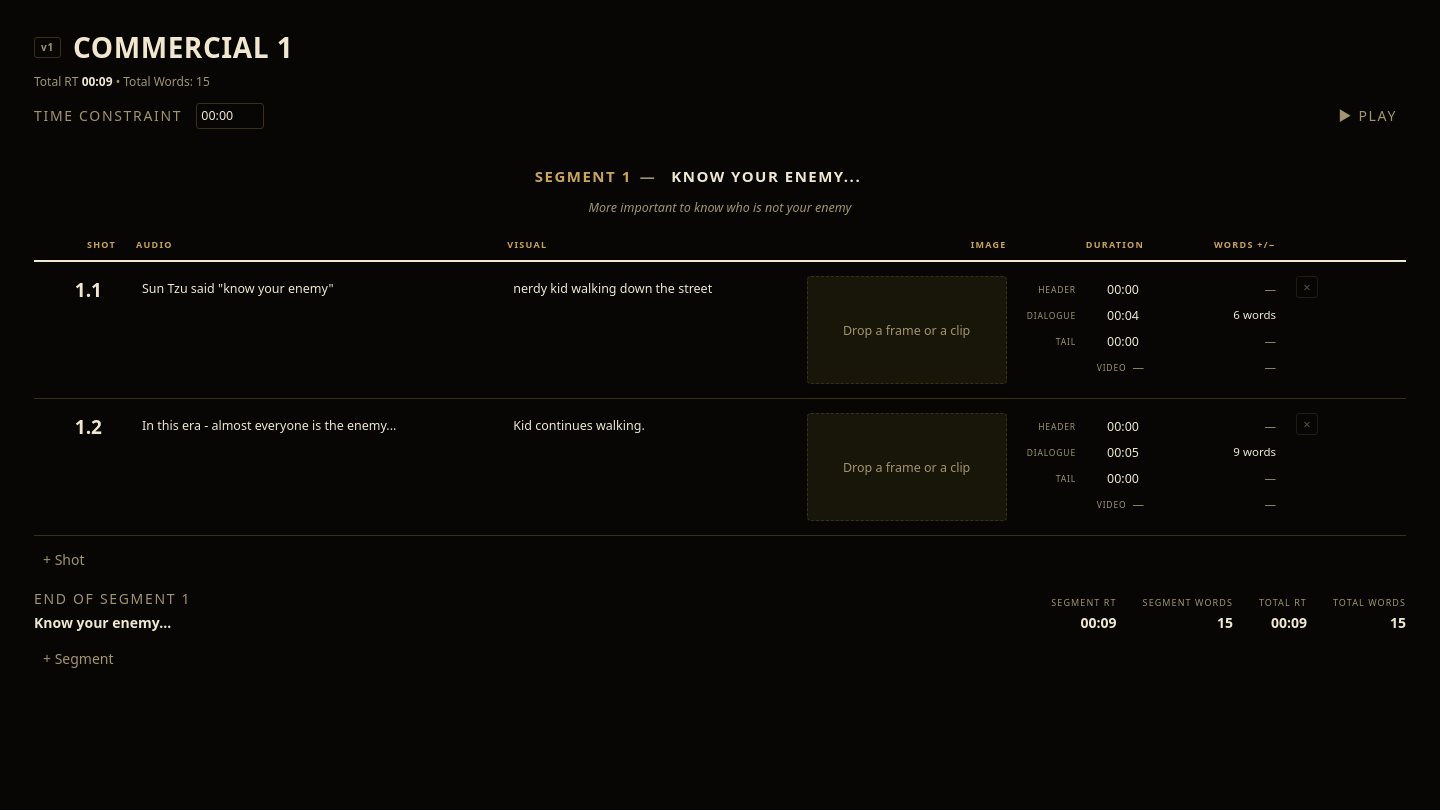
Test: writing in the sheet › takes a time the way it is typed, and puts it back the way it prints
Replace the text in the field named "How long the line in shot 1.1 takes" with "1:02" at (1113, 315), box [1082, 302, 1144, 328]
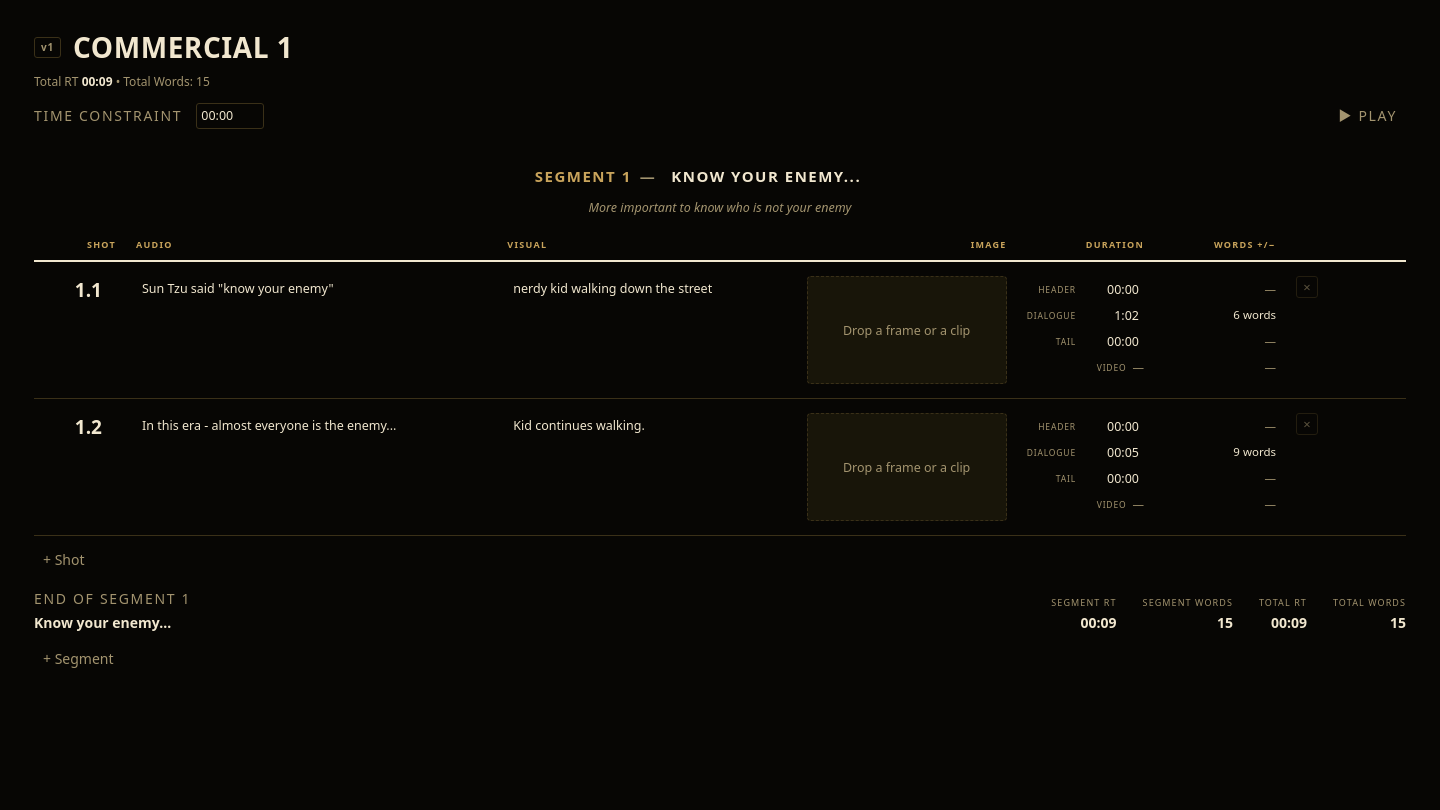
Leave the field named "How long the line in shot 1.1 takes", box [1082, 302, 1144, 328]
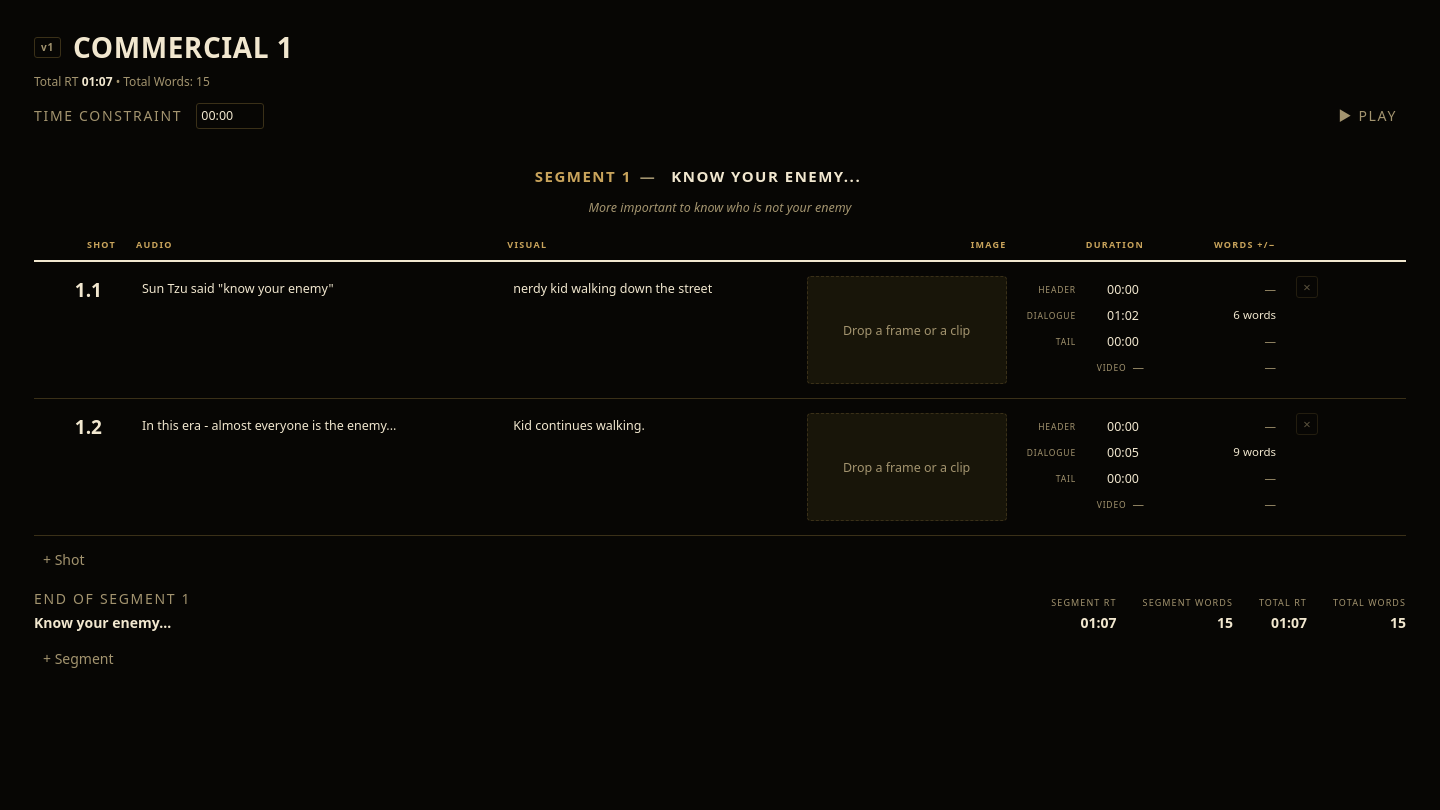
Expected: the field named "How long the line in shot 1.1 takes" holds "01:02"
Anything that is not a time leaves the row with the one it had.
Replace the text in the field named "How long the line in shot 1.1 takes" with "soon" at (1113, 315), box [1082, 302, 1144, 328]
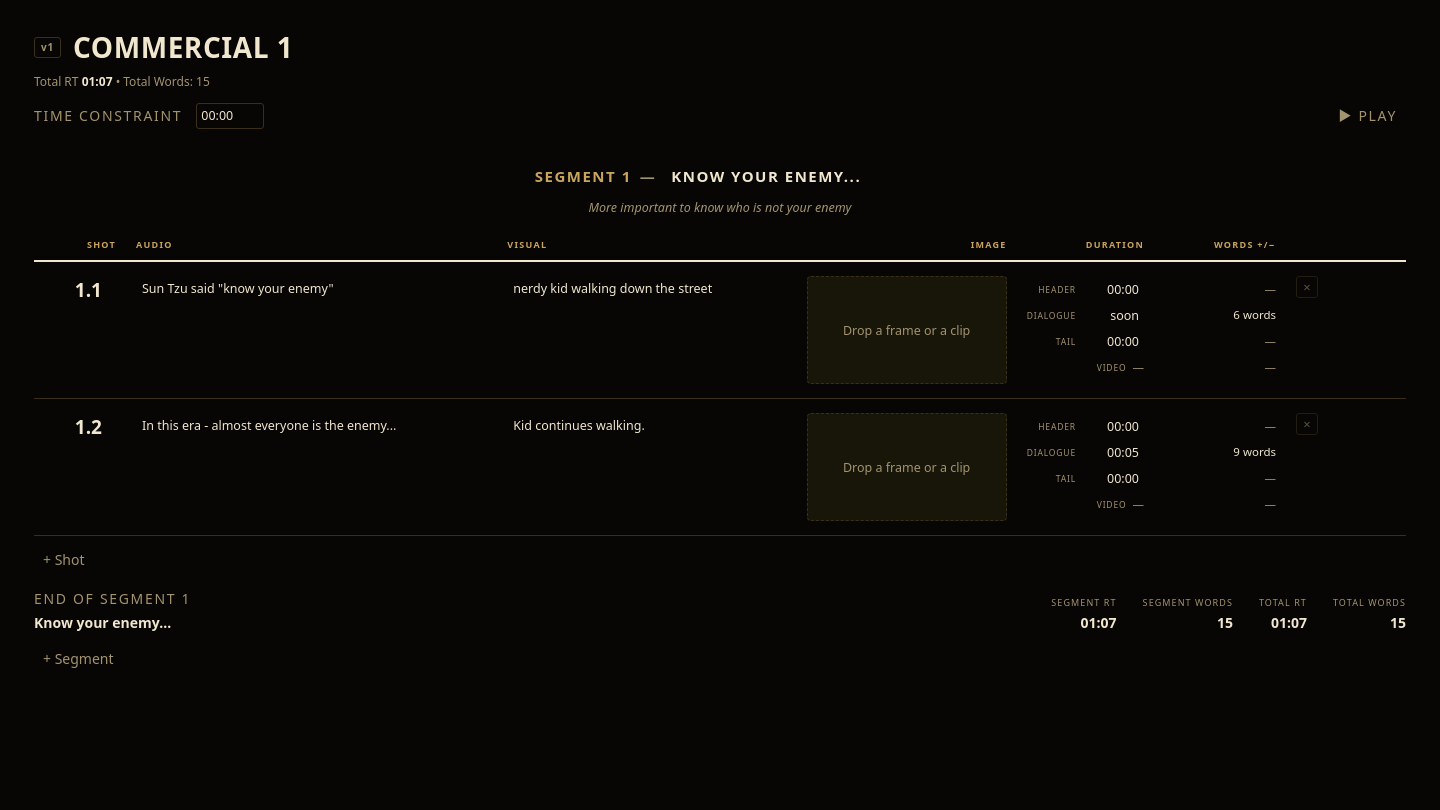
Leave the field named "How long the line in shot 1.1 takes", box [1082, 302, 1144, 328]
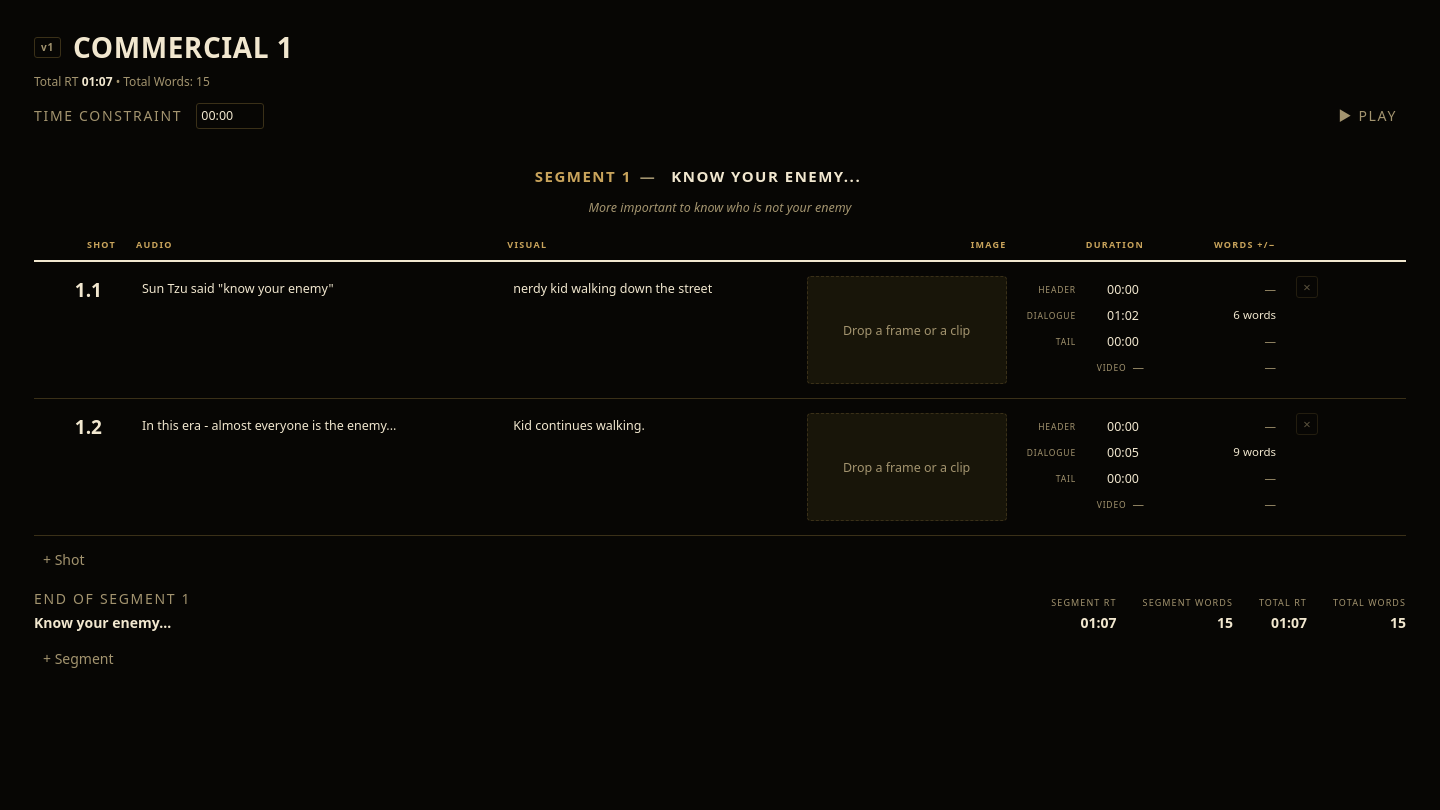
Expected: the field named "How long the line in shot 1.1 takes" holds "01:02", [1082, 302, 1144, 328]
